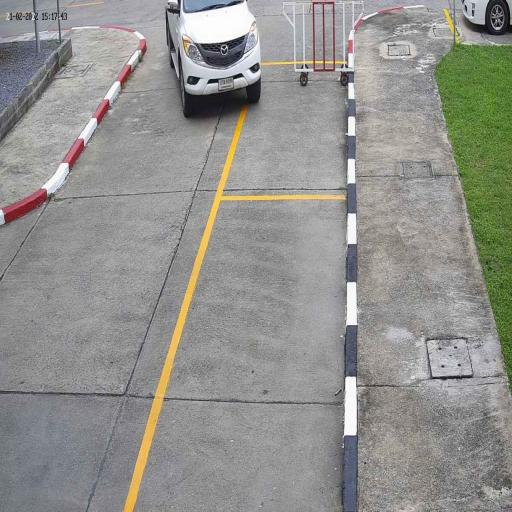car: (165, 0, 261, 116)
